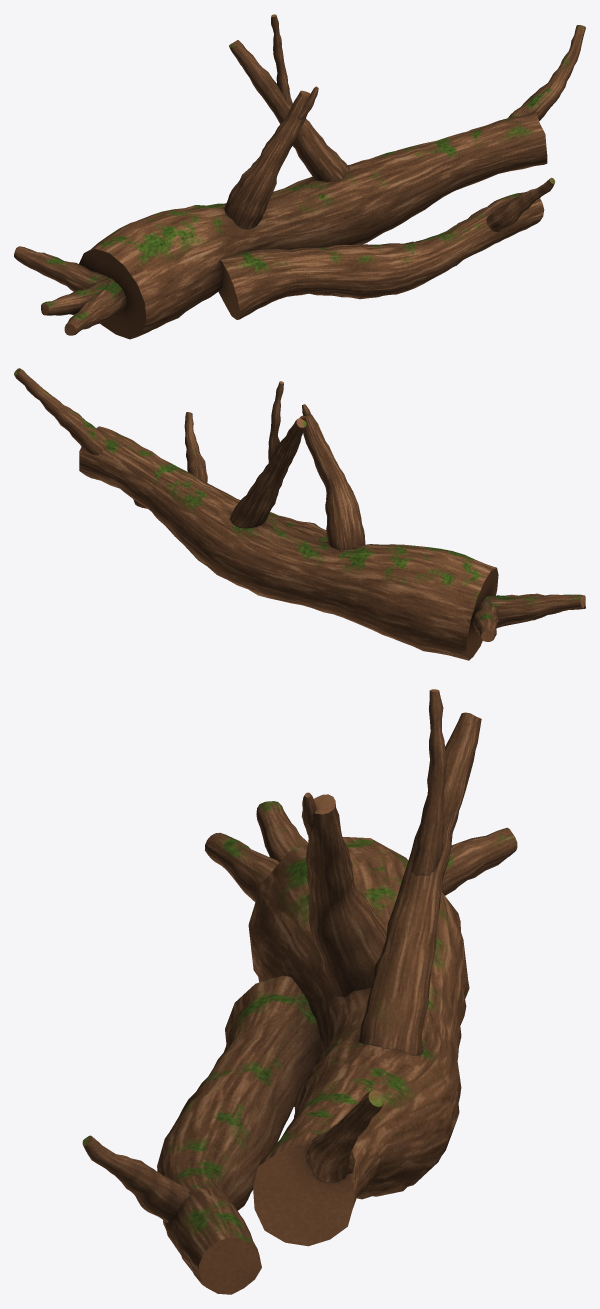
File: driftwood.glb
The picture shows the model from 3 angles, top to bottom: view 1: azimuth 30°, elevation 25°; view 2: azimuth 150°, elevation 25°; view 3: azimuth 270°, elevation 25°; orthographic projection. The views are drawn at different scales.
Parts seen in each view (by area): view 1: Driftwood; view 2: Driftwood; view 3: Driftwood.
Part boxes in pixels (box(x1,y1,x2,y2)): Driftwood: box(14, 14, 585, 339); Driftwood: box(14, 368, 585, 660); Driftwood: box(82, 689, 517, 1294).
Bounding box in the file's own units: 4.52 × 1.98 × 1.57.
Materials: 1 (1 with a texture image).
